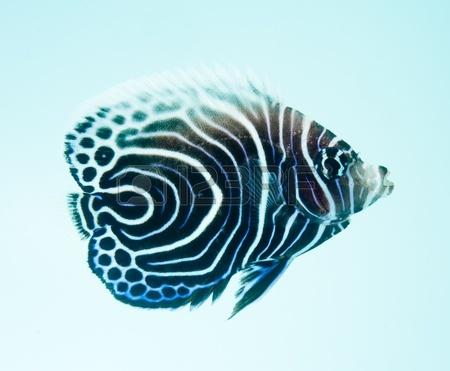Pomacanthus_imperator: (42, 63, 407, 327)
